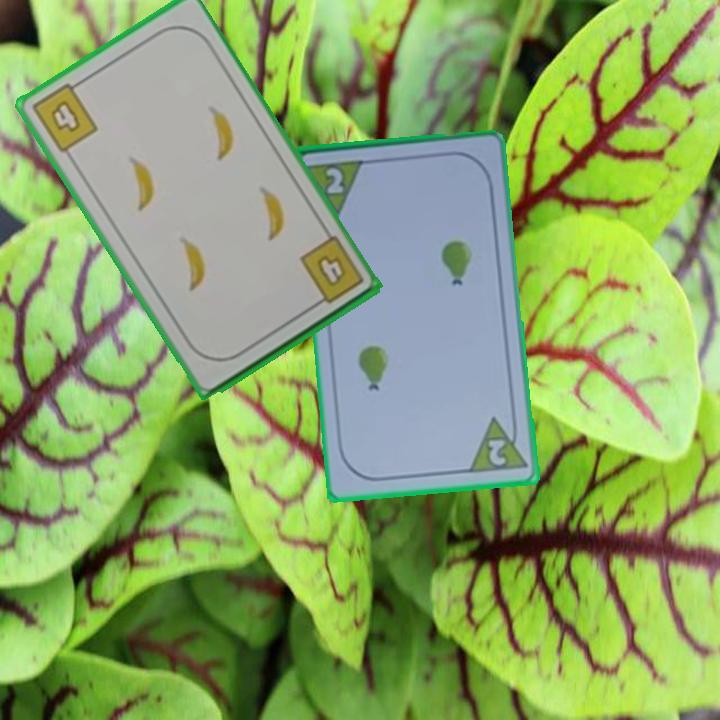2p: (485, 435, 510, 469), (322, 164, 347, 197)
4b: (27, 76, 101, 156), (295, 232, 367, 311)
